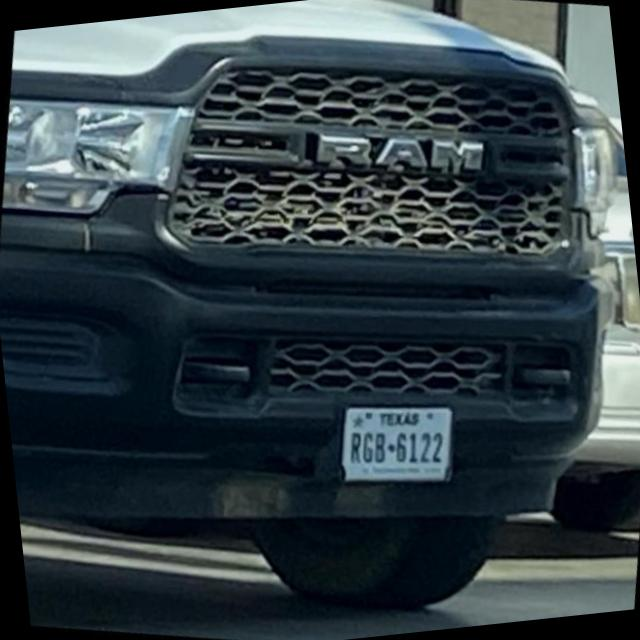LicensePlate: (339, 405, 453, 483)
